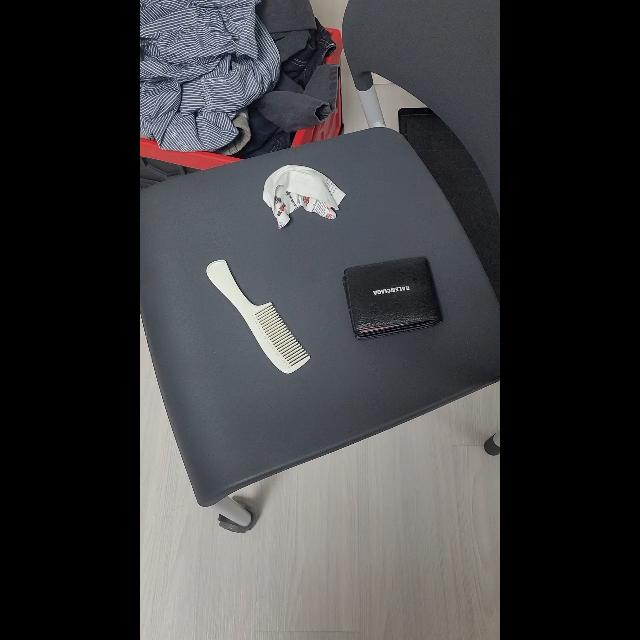COMB: (206, 260, 310, 372)
Glasses cleaning cloth: (262, 165, 346, 229)
WALLET: (342, 256, 442, 340)
